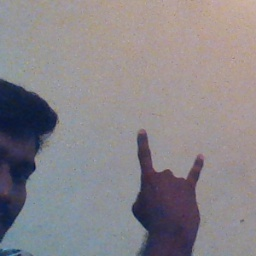V: (125, 124, 215, 236)
